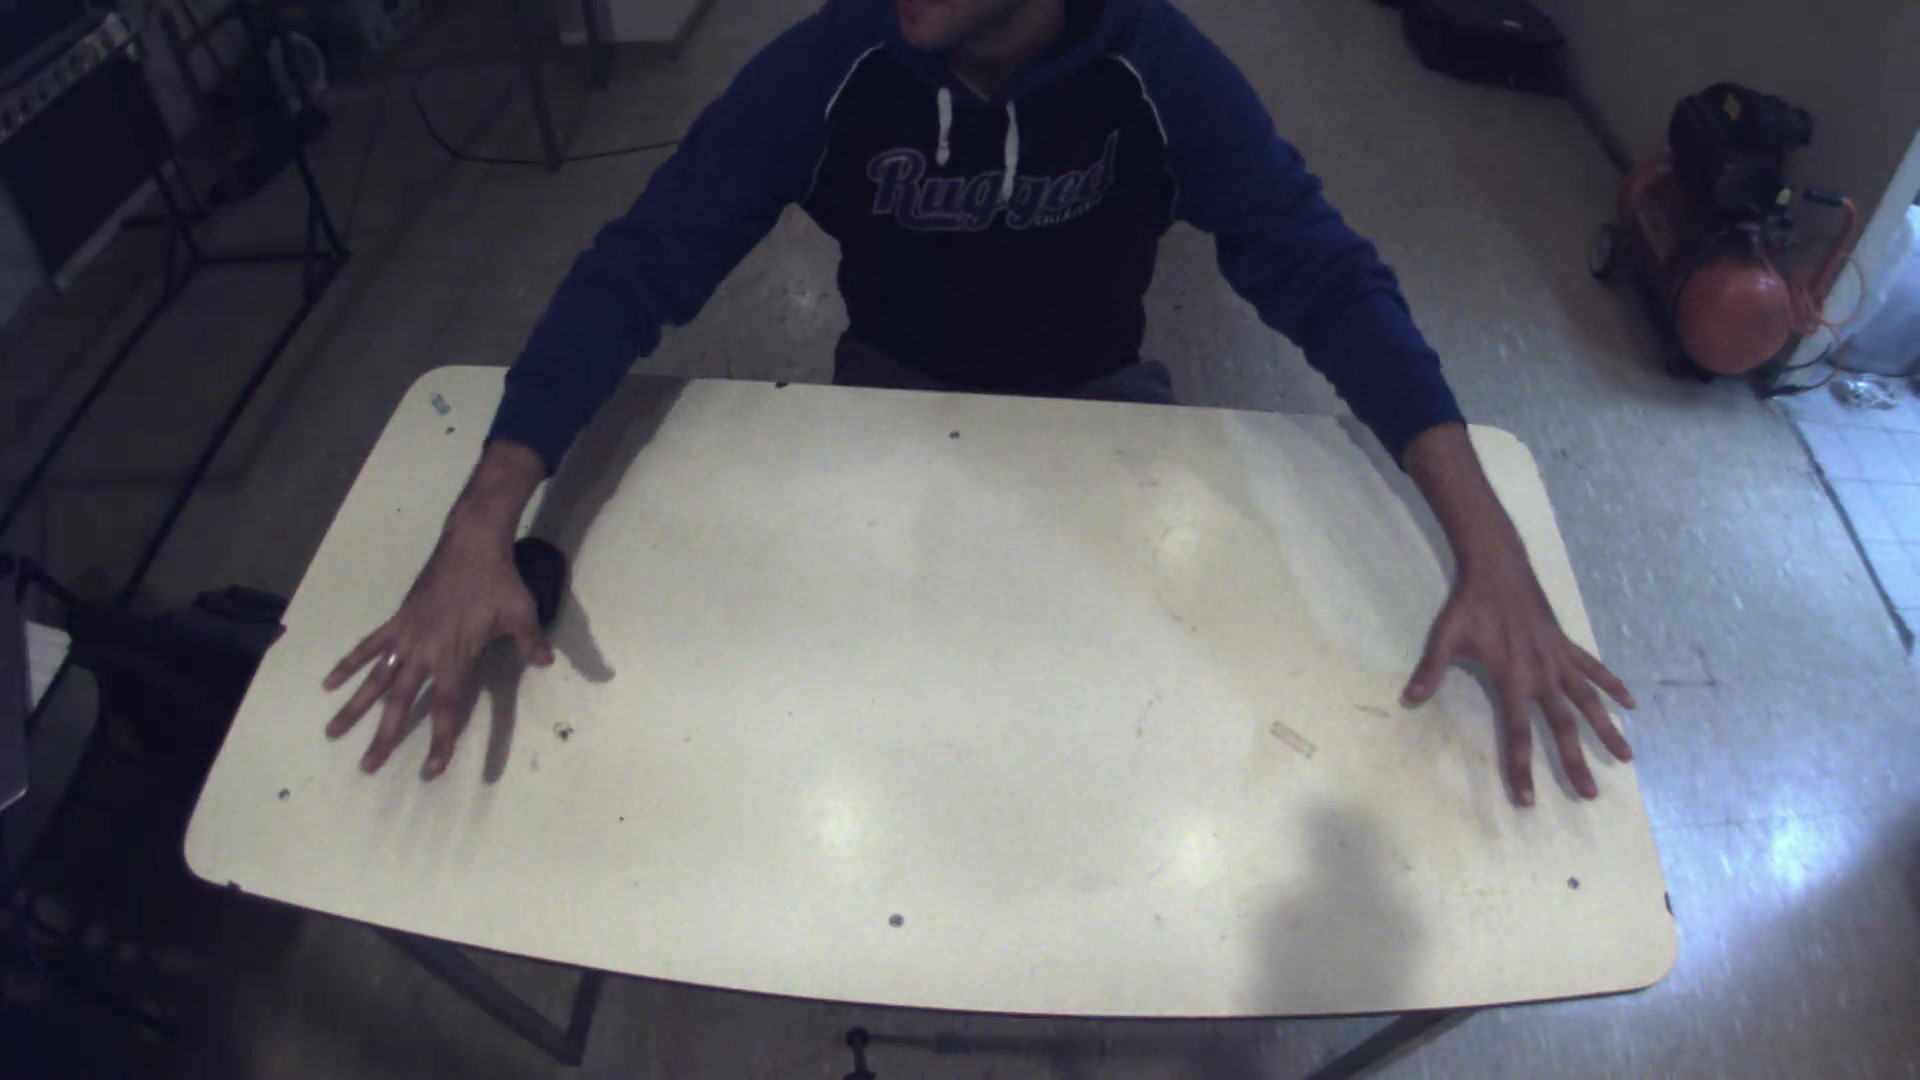hand: (305, 444, 549, 796), (1402, 556, 1648, 820)
